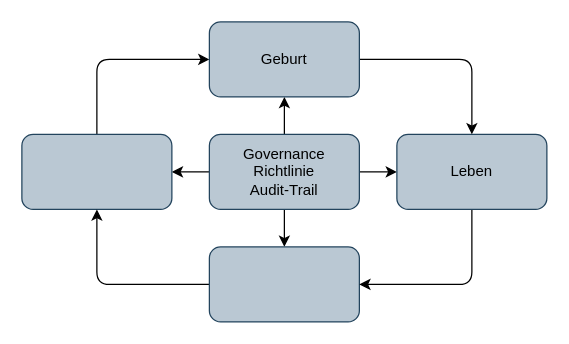
The diagram is 569 pixels wide and 344 high, and some of its shapes have lost their labels. Here are the shapes that lost their labels. From the top down, the centre of each, then its label:
At (x=96, y=171): "Tod".
At (x=283, y=284): "Aktualisierung".
